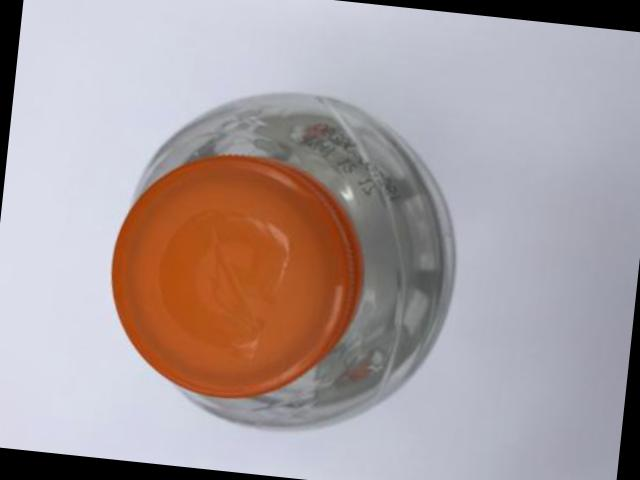plastic: (110, 96, 452, 432)
